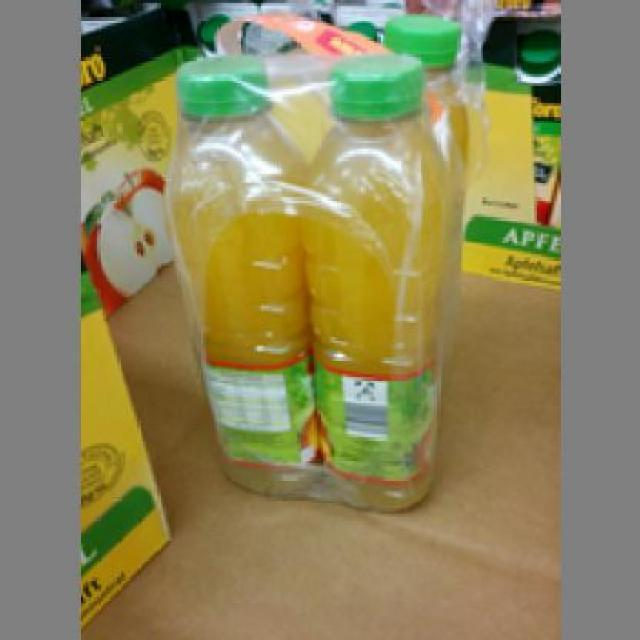Juice: (294, 57, 440, 503), (166, 51, 314, 487)
